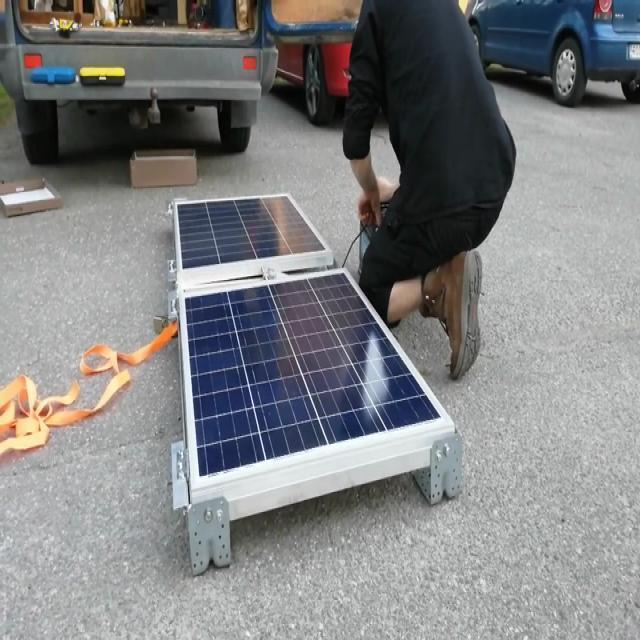Normal Solar Panel: (180, 268, 455, 485), (174, 197, 334, 270)
